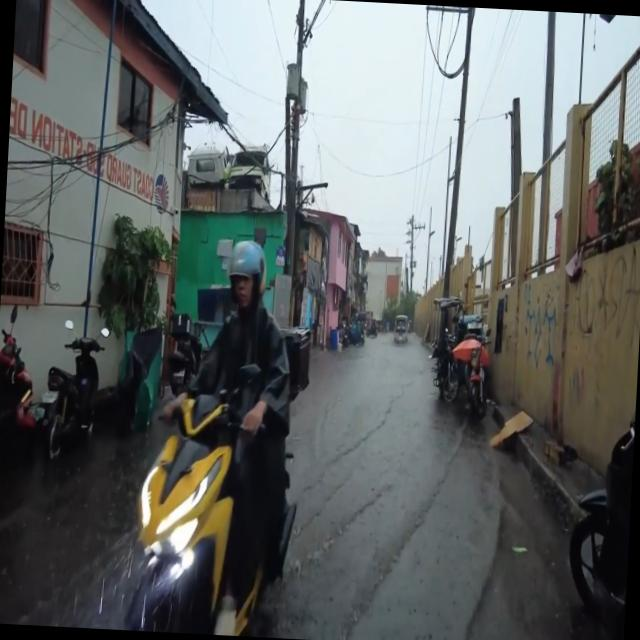half: (226, 238, 269, 307)
